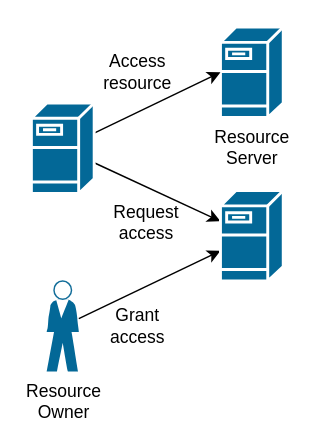
Some shapes in this 327 by 448 pixel diagram are drawn without their labels. The centre of each missing label's shape, as x and y in pixels:
Authorization Server: point (251, 235)
Client: point (62, 147)
